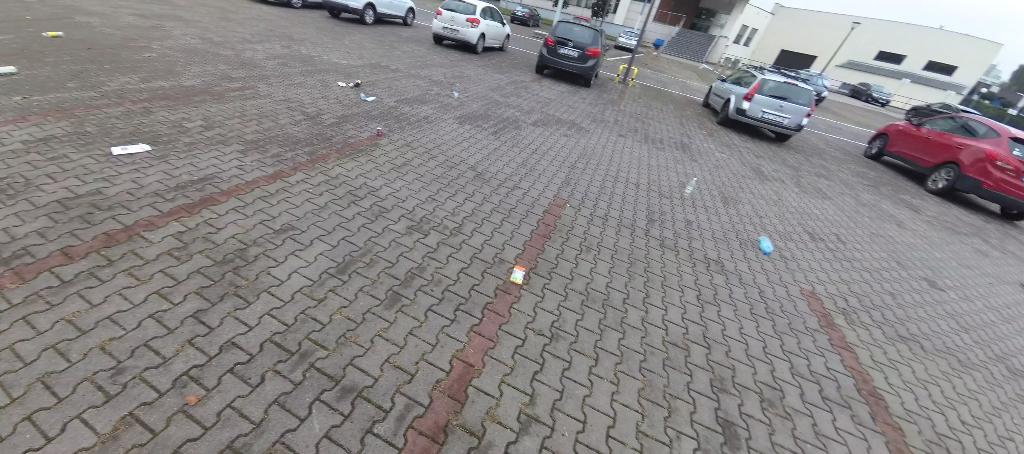garbage: (109, 141, 153, 156), (683, 175, 700, 198), (512, 263, 525, 288), (359, 92, 376, 102), (349, 78, 362, 90)
